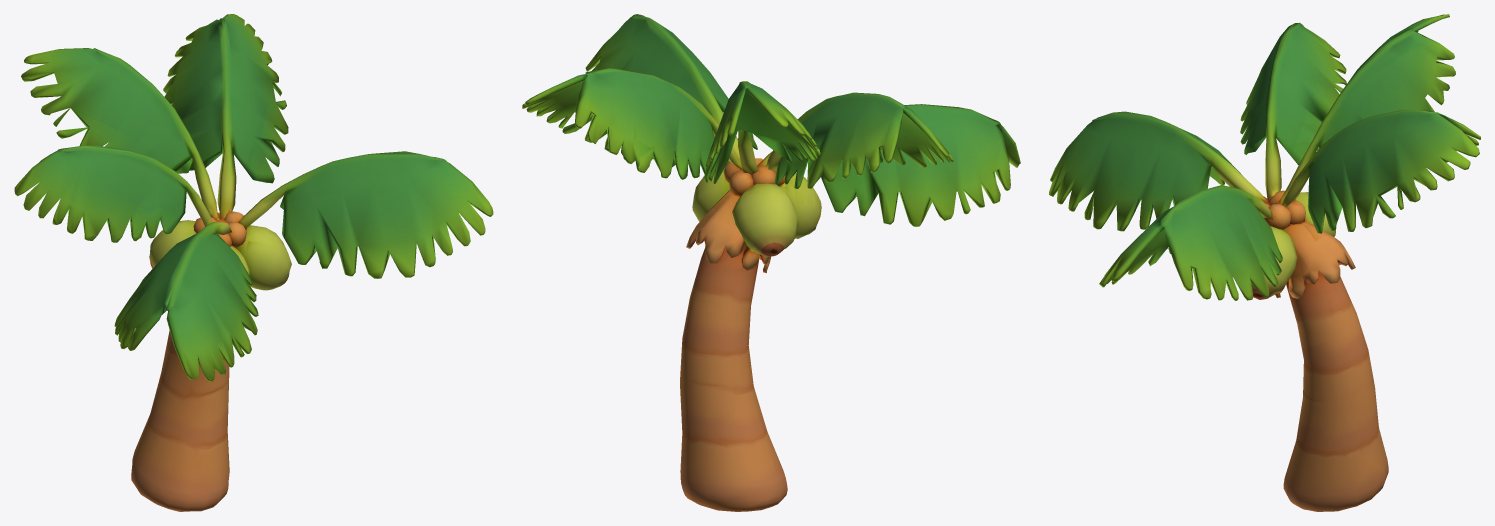
Rendered from TropicalTree.glb.
3 views of the same model, side by side, from view 1: azimuth 30°, elevation 25°; view 2: azimuth 150°, elevation 25°; view 3: azimuth 270°, elevation 25° (orthographic). The views are drawn at different scales.
Parts seen in each view (by area): view 1: tripo_node_dfdafef5-a272-4491-8051-162e72a289df; view 2: tripo_node_dfdafef5-a272-4491-8051-162e72a289df; view 3: tripo_node_dfdafef5-a272-4491-8051-162e72a289df.
Part boxes in pixels (x1,y1,x2,y2): tripo_node_dfdafef5-a272-4491-8051-162e72a289df: (14, 14, 493, 511); tripo_node_dfdafef5-a272-4491-8051-162e72a289df: (522, 14, 1020, 511); tripo_node_dfdafef5-a272-4491-8051-162e72a289df: (1049, 14, 1480, 511).
Bounding box in the file's own units: 0.9512 × 0.998 × 0.877.
1 material, 1 textured.
